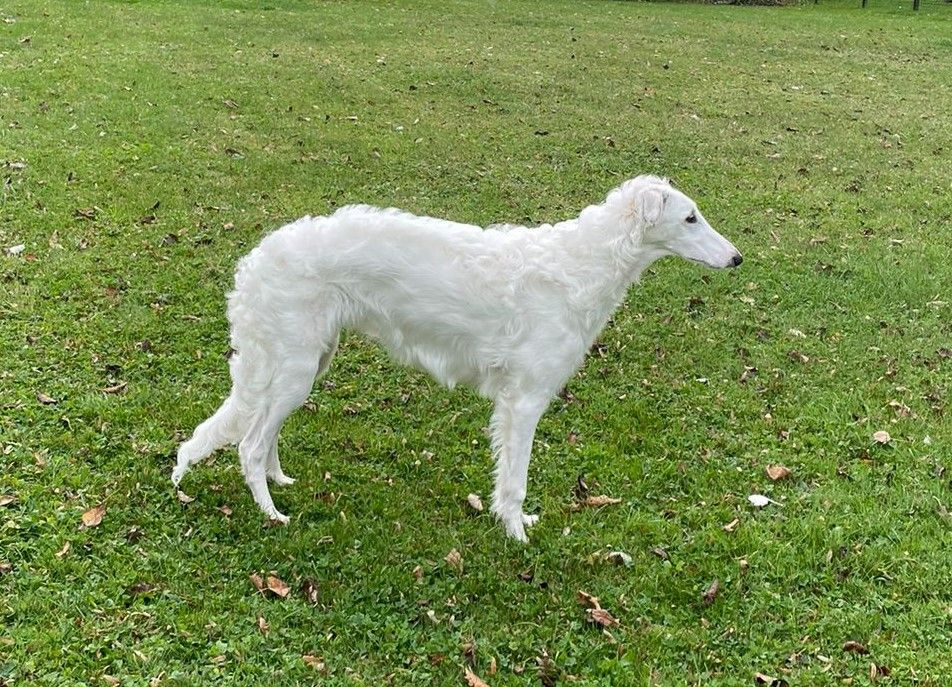borzoi: (156, 180, 757, 535)
